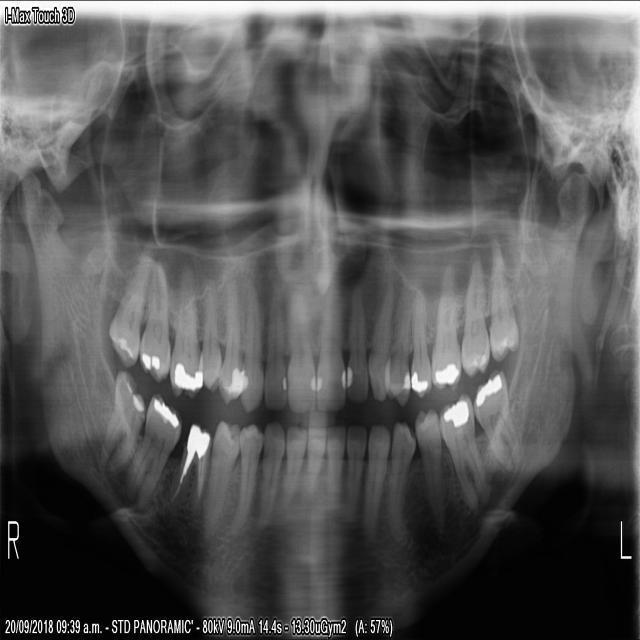LCD: (361, 420, 390, 541)
LCU: (366, 273, 393, 404)
LID: (344, 419, 366, 521), (325, 422, 345, 519)
LIU: (315, 290, 344, 414), (344, 279, 368, 404)
LMU: (428, 260, 460, 391), (488, 233, 519, 362), (458, 254, 489, 379)
LPMD: (412, 404, 444, 535), (386, 417, 415, 532)
LPMU: (381, 280, 413, 407), (408, 282, 430, 399)
RCD: (254, 417, 284, 533)
RCU: (237, 281, 264, 414)
RID: (276, 422, 306, 511), (304, 423, 325, 501)
RIU: (284, 292, 316, 415), (261, 289, 286, 413)
RMD: (124, 389, 181, 509), (98, 367, 145, 473), (166, 419, 212, 516)
RMU: (106, 235, 153, 368), (167, 262, 203, 400), (136, 256, 169, 383)
RPMD: (202, 418, 242, 536), (229, 419, 263, 528)
RPMU: (216, 275, 248, 408), (193, 275, 223, 394)
